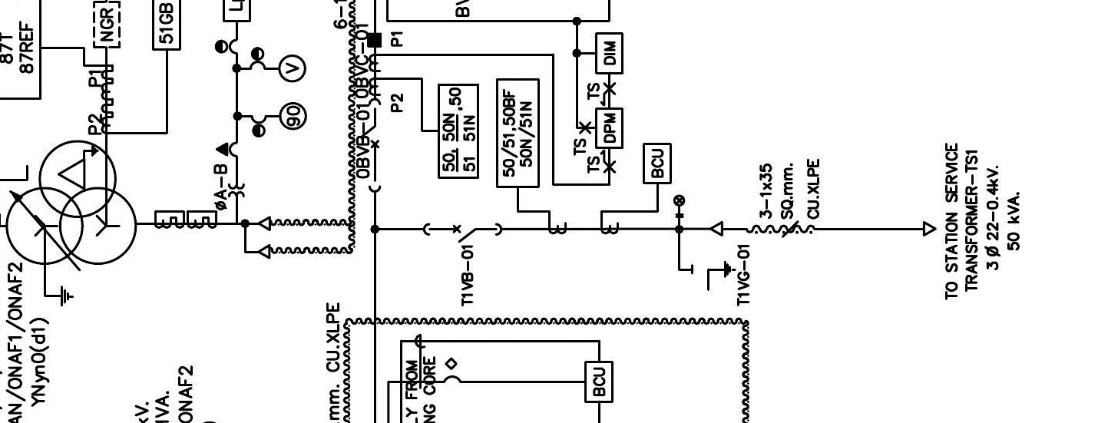11522_tx_ynyn0d1: (5, 139, 138, 266)
22_breaker: (361, 98, 381, 193), (423, 222, 503, 244)
22_gs: (691, 261, 736, 292)
22_ll: (673, 194, 686, 219)
BCU: (642, 142, 673, 185), (584, 360, 614, 404)
DIM: (595, 32, 624, 75)
DPM: (594, 107, 624, 150)
terminator_double: (243, 215, 271, 260)
terminator_single: (922, 221, 937, 237), (710, 221, 724, 237)
v_m: (278, 54, 307, 83)
